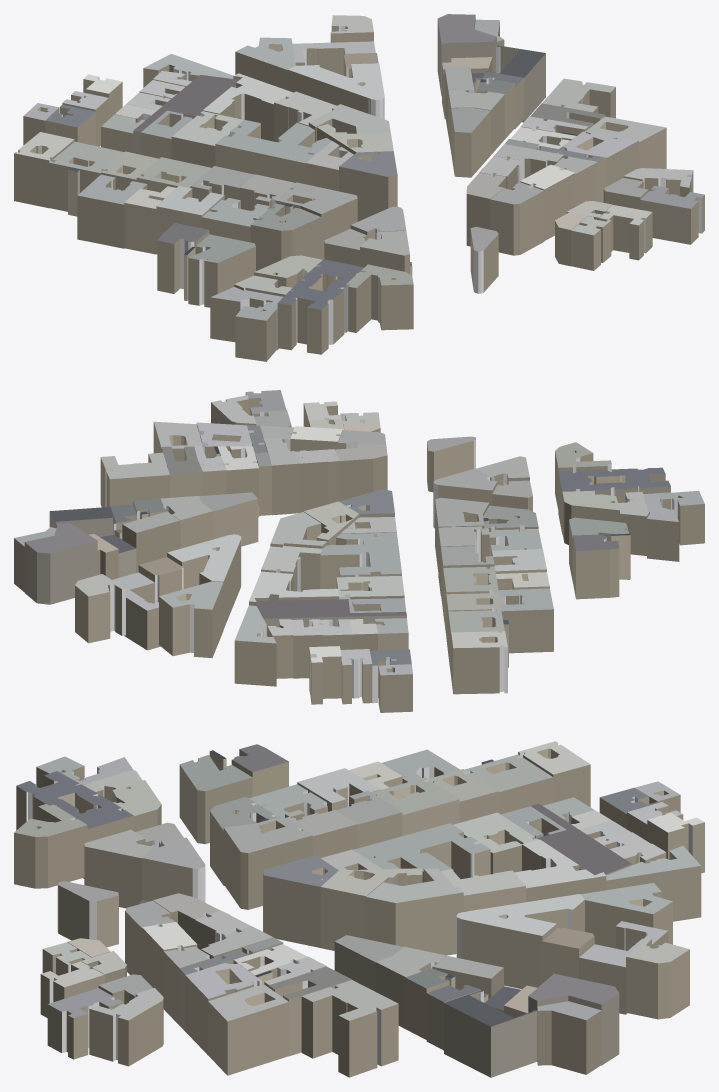
The picture shows the model from 3 angles, top to bottom: view 1: azimuth 30°, elevation 25°; view 2: azimuth 150°, elevation 25°; view 3: azimuth 270°, elevation 25°; orthographic projection. The views are drawn at different scales.
Visible parts, largest first — view 1: tuile; view 2: tuile; view 3: tuile.
Boxes of the visible parts, x1=… form: tuile: x1=14, y1=14, x2=704, y2=361; tuile: x1=14, y1=390, x2=704, y2=712; tuile: x1=14, y1=741, x2=704, y2=1077.
Size of the model in its own units: 269 by 30.14 by 273.
